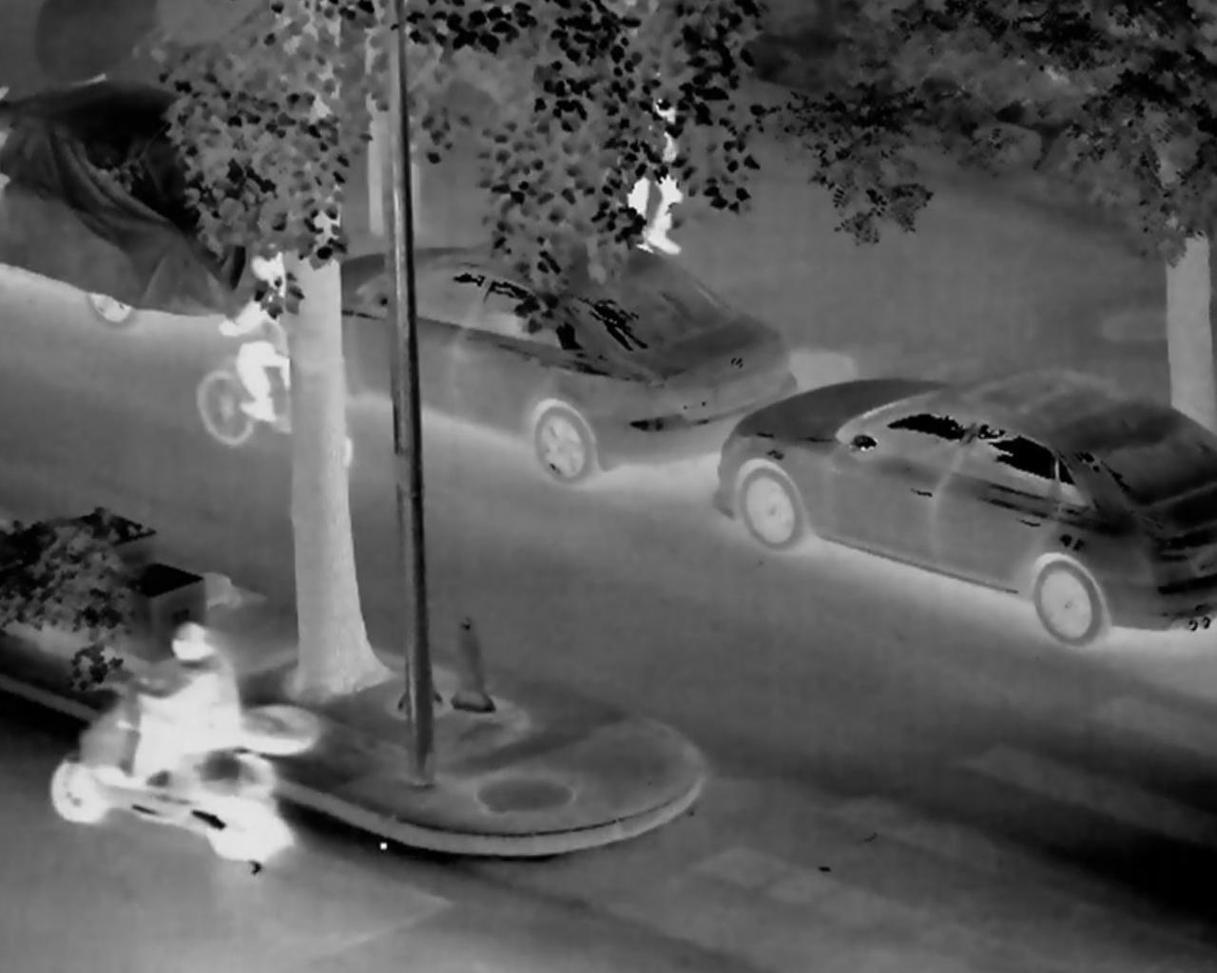person: (110, 616, 258, 826), (624, 94, 711, 271), (228, 253, 308, 443)
